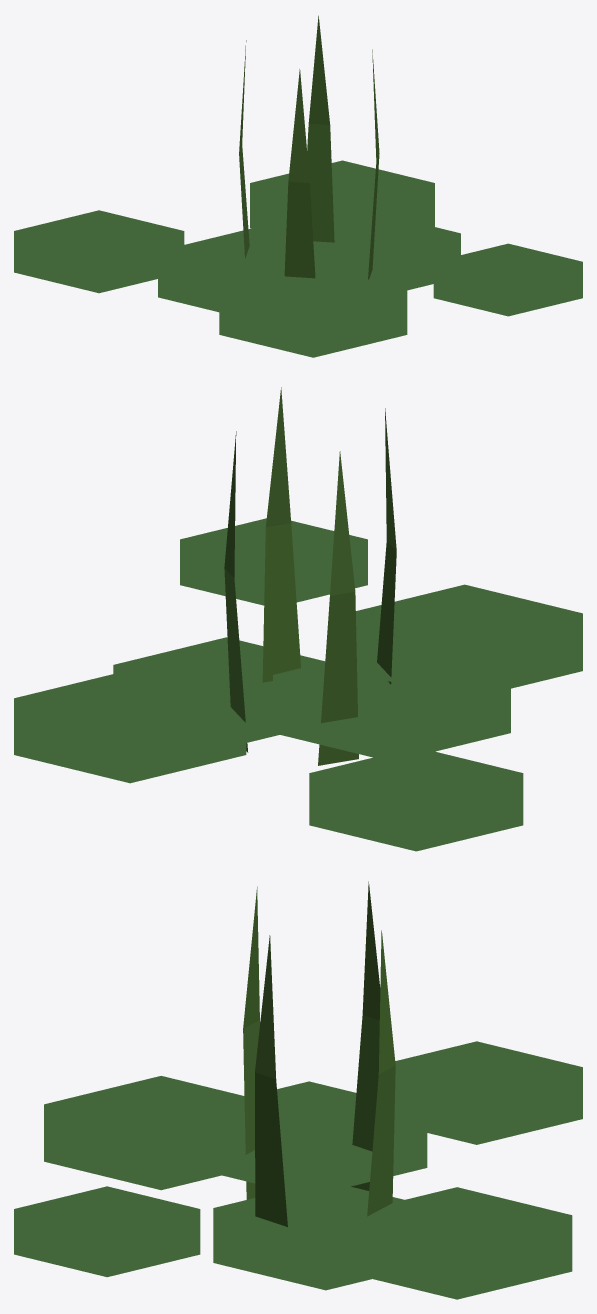
The picture shows the model from 3 angles, top to bottom: view 1: azimuth 30°, elevation 25°; view 2: azimuth 150°, elevation 25°; view 3: azimuth 270°, elevation 25°; orthographic projection. The views are drawn at different scales.
Parts seen in each view (by area): view 1: 草_12; view 2: 草_12; view 3: 草_12.
Boxes of the visible parts, box(x1,y1,x2,y2) form: 草_12: box(14, 15, 582, 357); 草_12: box(14, 387, 582, 851); 草_12: box(14, 881, 582, 1299).
Size of the model in its own units: 0.9677 by 0.55 by 0.9074.
